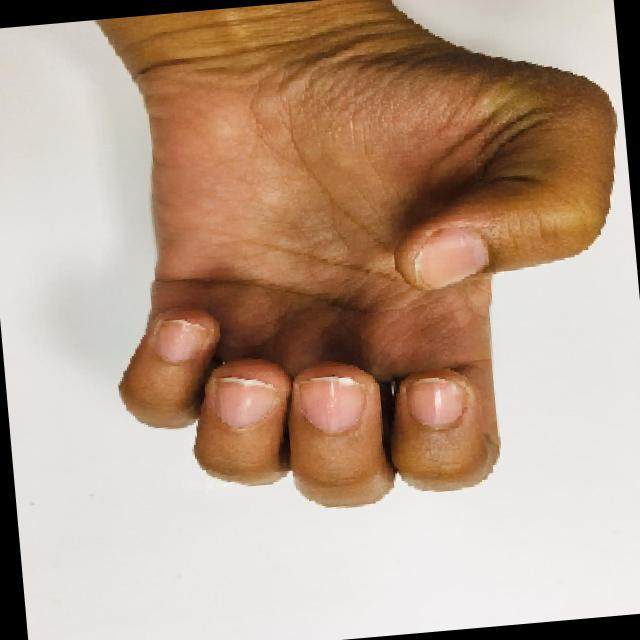Nail: (413, 227, 488, 288), (296, 374, 364, 430), (214, 377, 275, 428), (406, 375, 463, 426), (152, 317, 211, 361)
